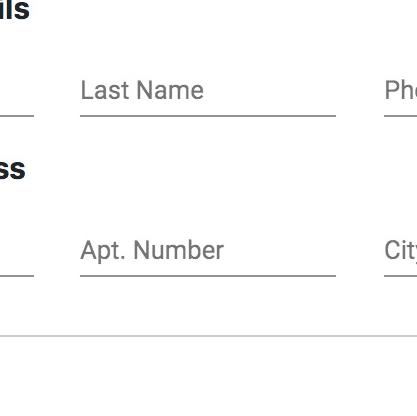field: (74, 68, 338, 120), (74, 232, 340, 281)
